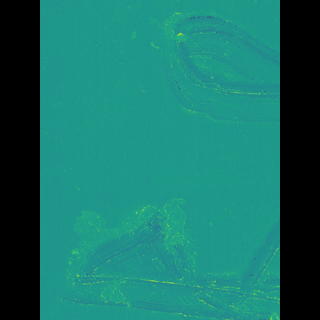Loch: (81, 194, 250, 320), (157, 7, 250, 129)
